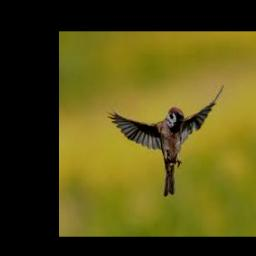Sparrow: (107, 84, 223, 197)
